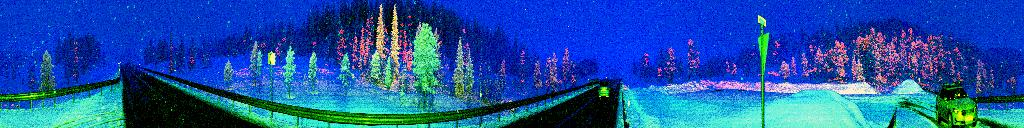pole: (628, 84, 630, 110), (480, 82, 482, 105), (119, 64, 120, 76)
